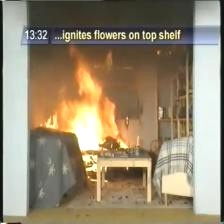fire: (51, 43, 129, 147)
